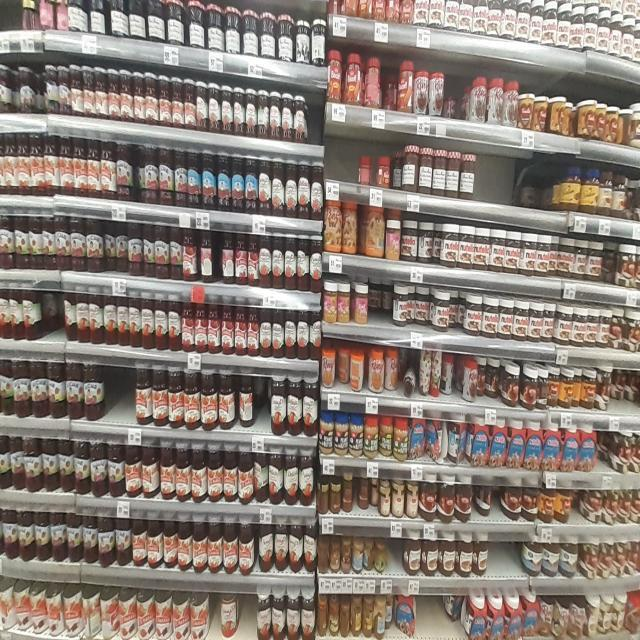produto: (4, 123, 326, 223), (2, 427, 314, 508), (66, 279, 317, 365), (320, 405, 588, 477), (1, 570, 206, 640), (442, 210, 577, 279), (466, 586, 636, 640), (468, 287, 613, 349), (253, 580, 387, 640)
vazio: (476, 137, 570, 215), (332, 115, 414, 195)
